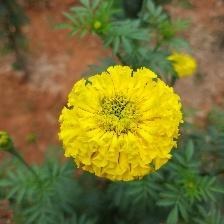marigold: (57, 64, 186, 182)
